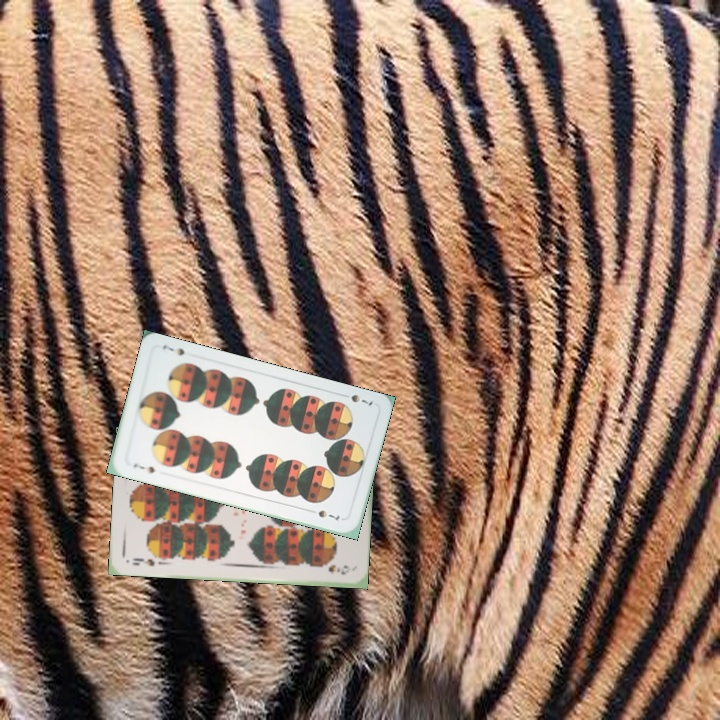S7: (347, 390, 376, 408), (129, 460, 157, 476)
S9: (128, 554, 157, 569)
